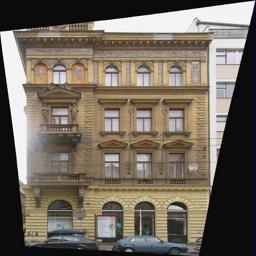building: (16, 0, 212, 237)
